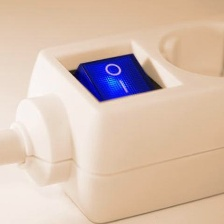three_eye_plug: (15, 12, 224, 224)
